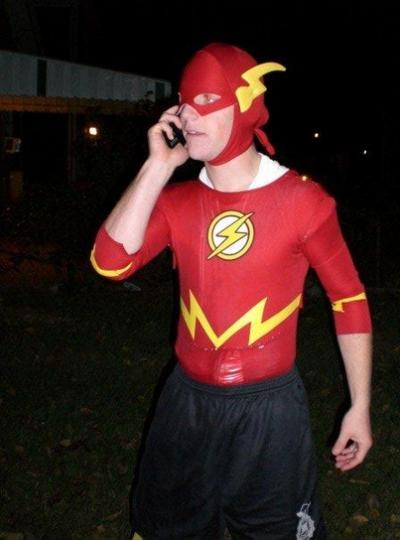person: (91, 42, 375, 540)
